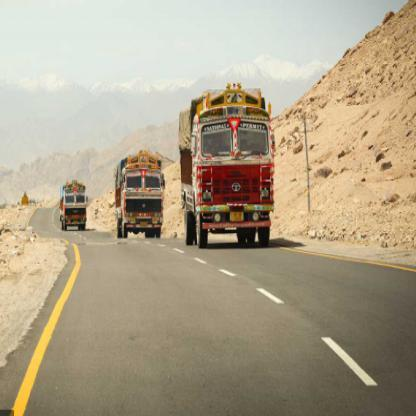truck: (176, 70, 278, 255), (117, 151, 166, 239), (57, 177, 89, 233)
